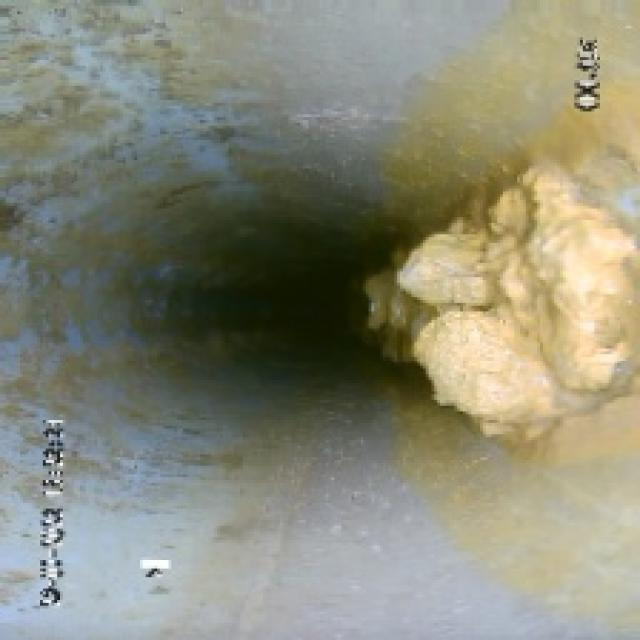sluge accumulation: (363, 183, 626, 428)
